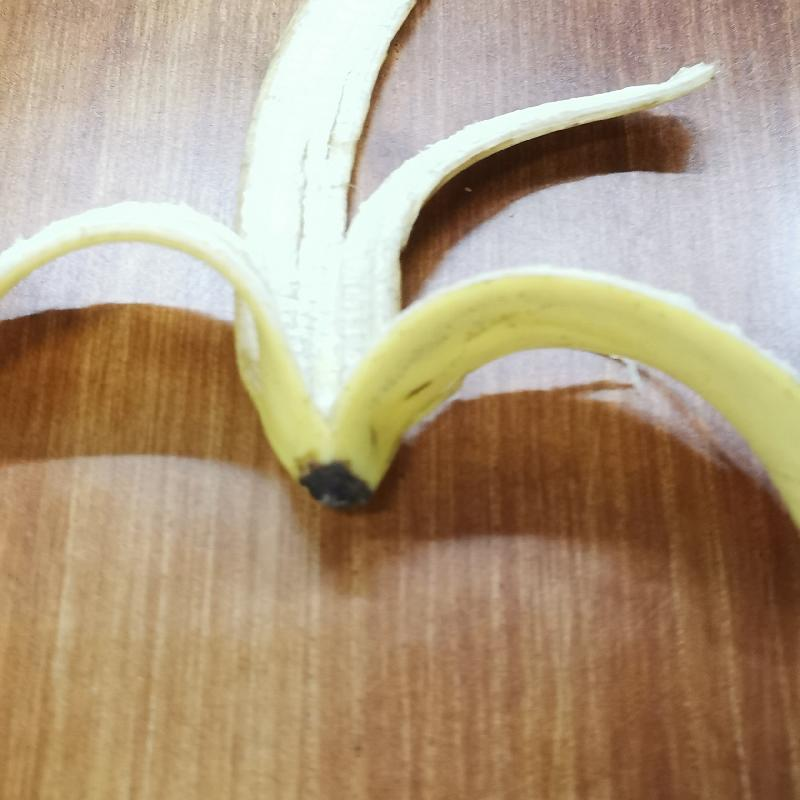bananas: (11, 3, 799, 586)
